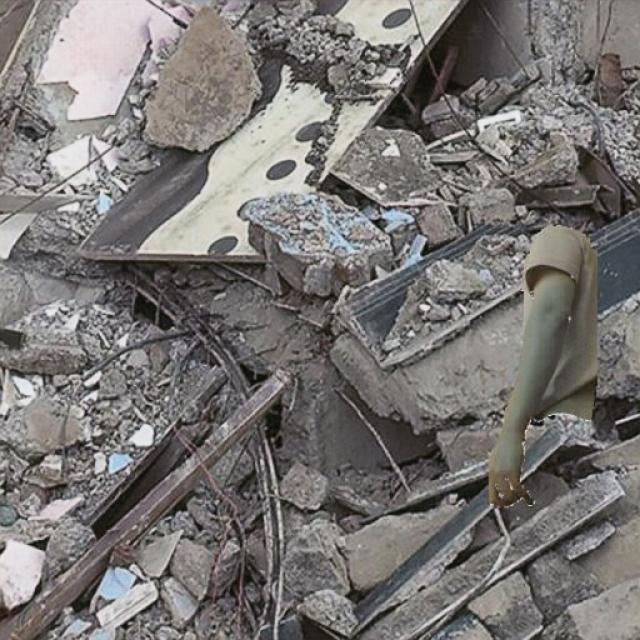Person in Rubble: (488, 224, 596, 506)
